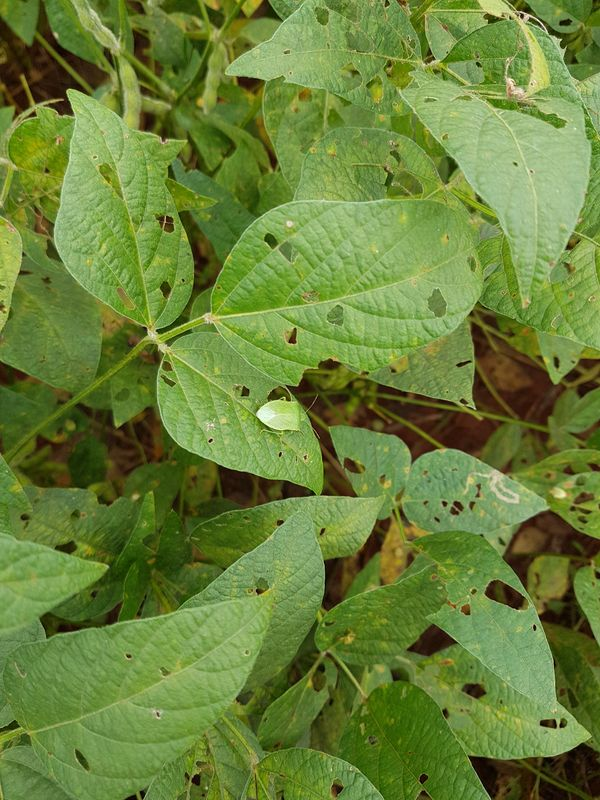Nezara_viridula_adulto: (238, 383, 323, 447)
